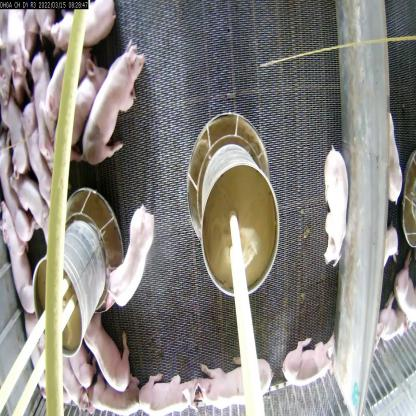Pig: (78, 40, 143, 168), (95, 202, 160, 320), (194, 340, 274, 415), (314, 144, 358, 272), (53, 55, 104, 145), (80, 316, 134, 390), (49, 5, 111, 68), (26, 55, 61, 159), (134, 367, 208, 415), (283, 321, 333, 392), (23, 101, 55, 207), (14, 167, 54, 245), (5, 205, 34, 312), (86, 367, 143, 415)
